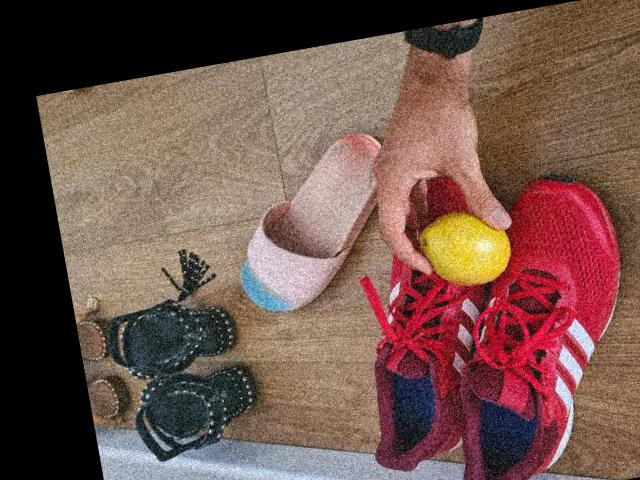lemon: (412, 204, 517, 292)
